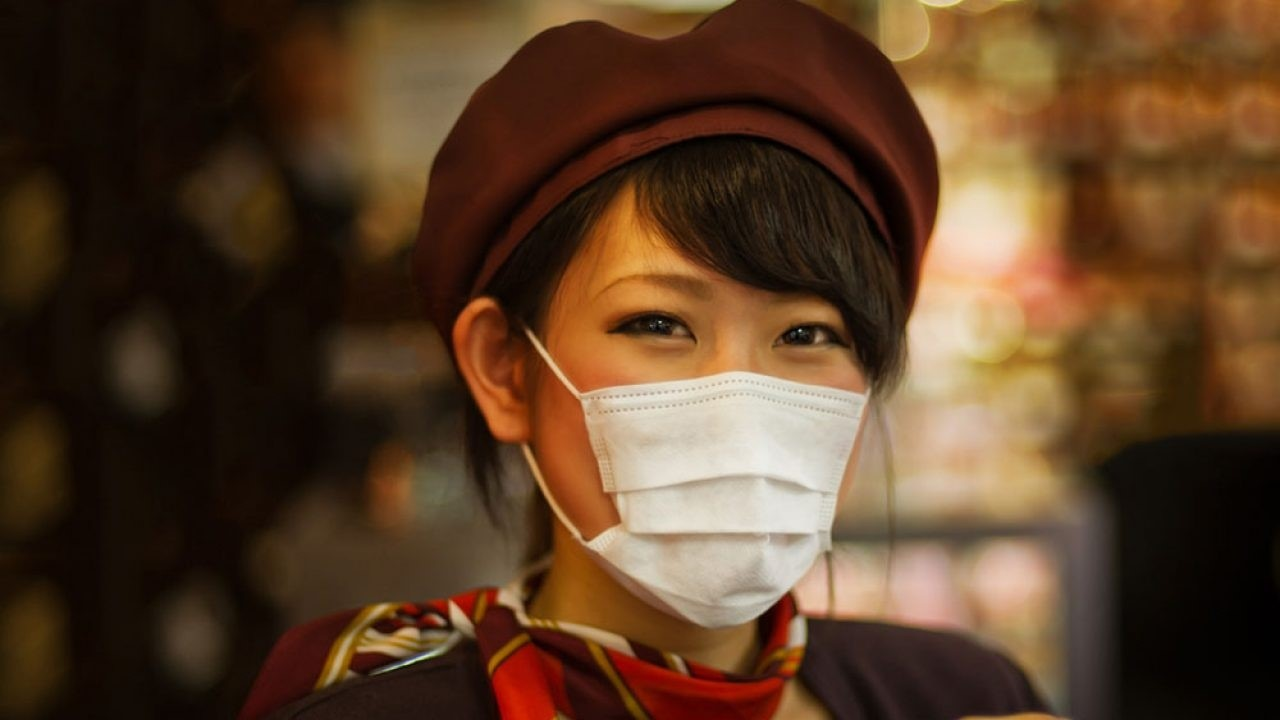face_with_mask: (437, 121, 907, 644)
